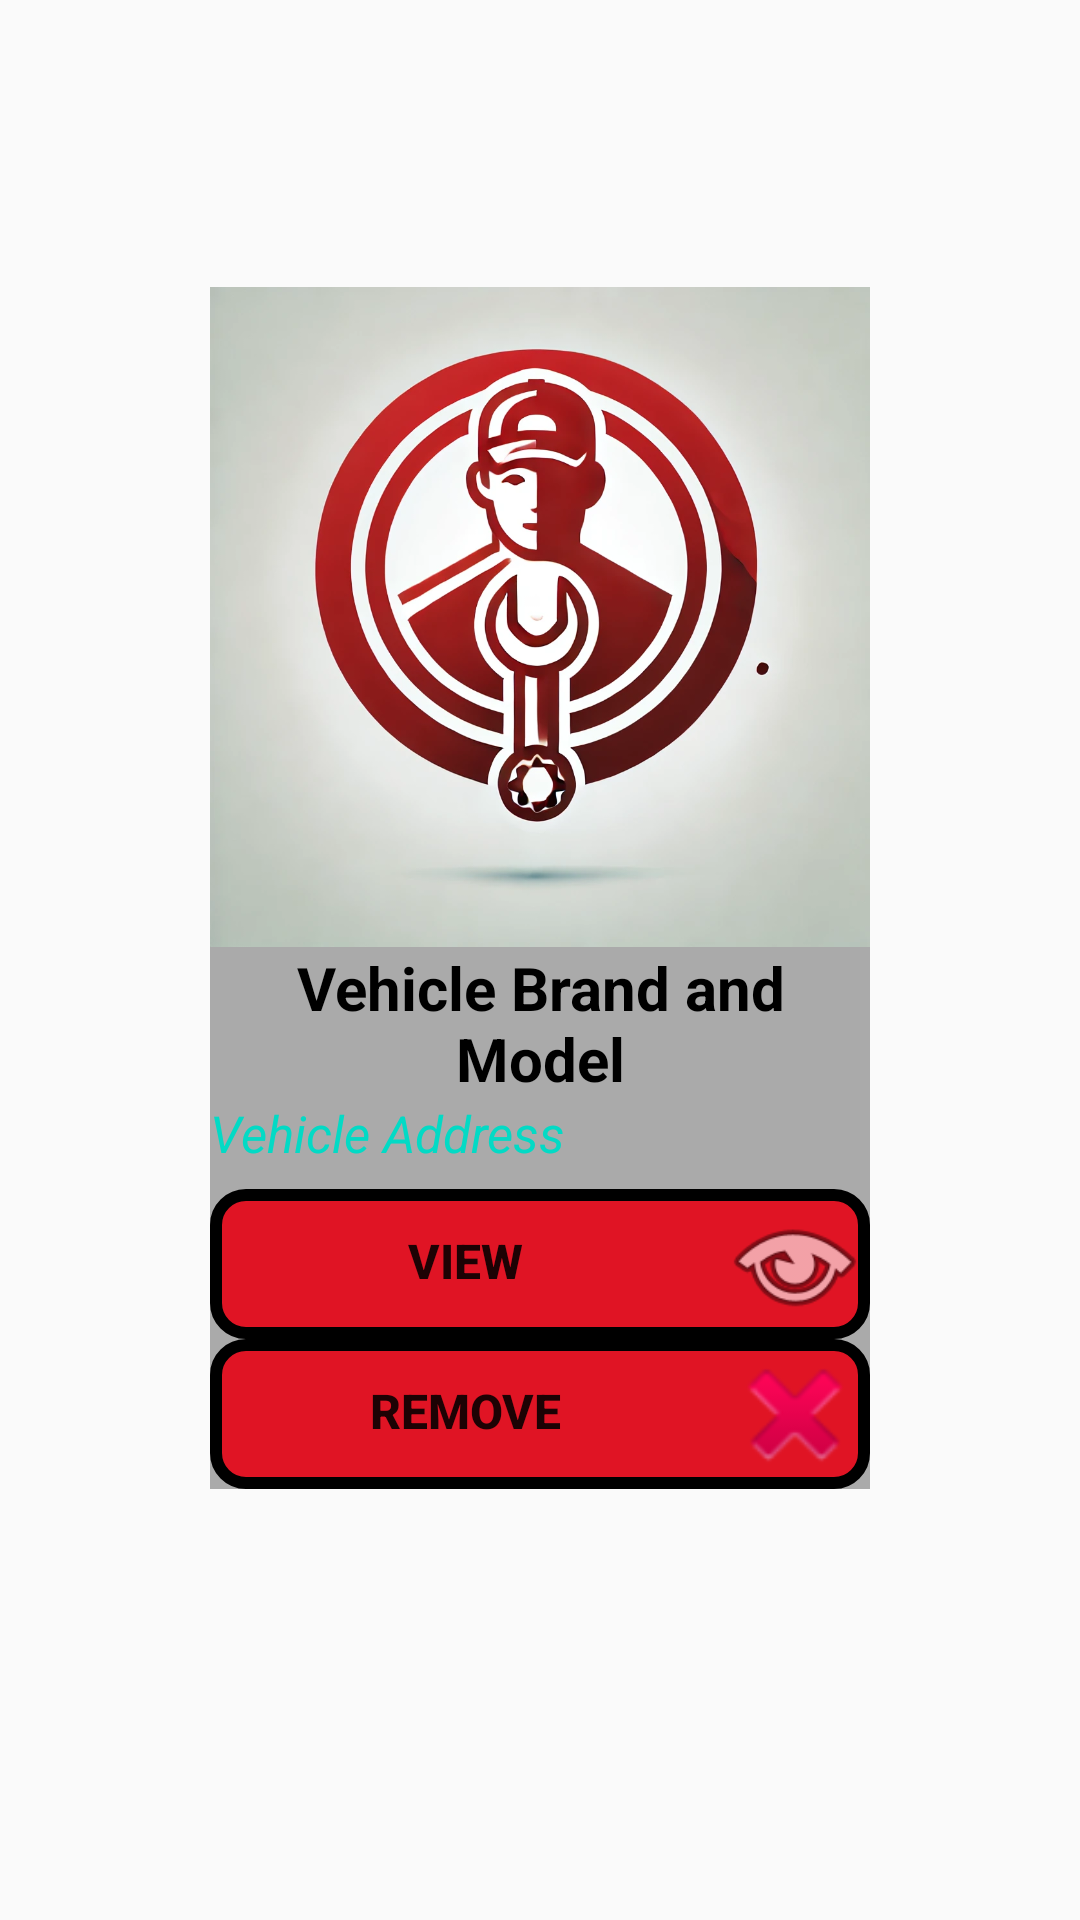

Named icons in this screenshot (1080w x 1920h) and their centers, (x,y):
delete: (795,1414)
